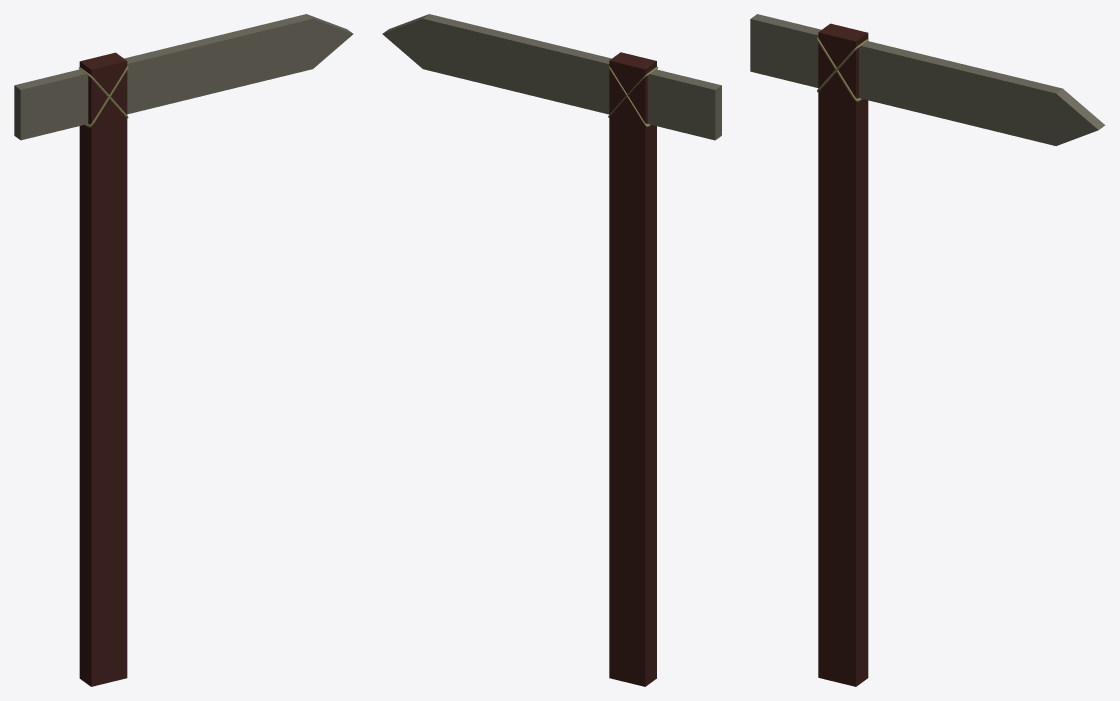
File: sign_right_MY.fbx
3 renders of one model, left to right at view 1: azimuth 30°, elevation 25°; view 2: azimuth 150°, elevation 25°; view 3: azimuth 330°, elevation 25°, orthographic. The views are drawn at different scales.
Visible parts, largest first — view 1: Plane.001; view 2: Plane.001; view 3: Plane.001.
Part boxes in pixels (x1,y1,x2,y2): Plane.001: [14, 14, 353, 686]; Plane.001: [382, 14, 721, 686]; Plane.001: [750, 14, 1105, 686].
Bounding box in the file's own units: 1665 × 2949 × 112.
